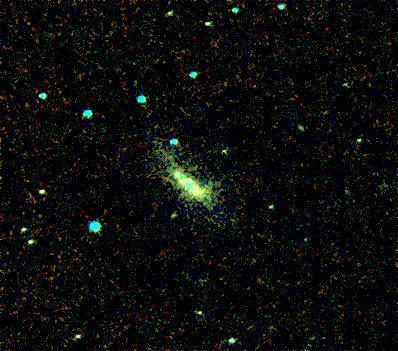star: (210, 259, 240, 289)
